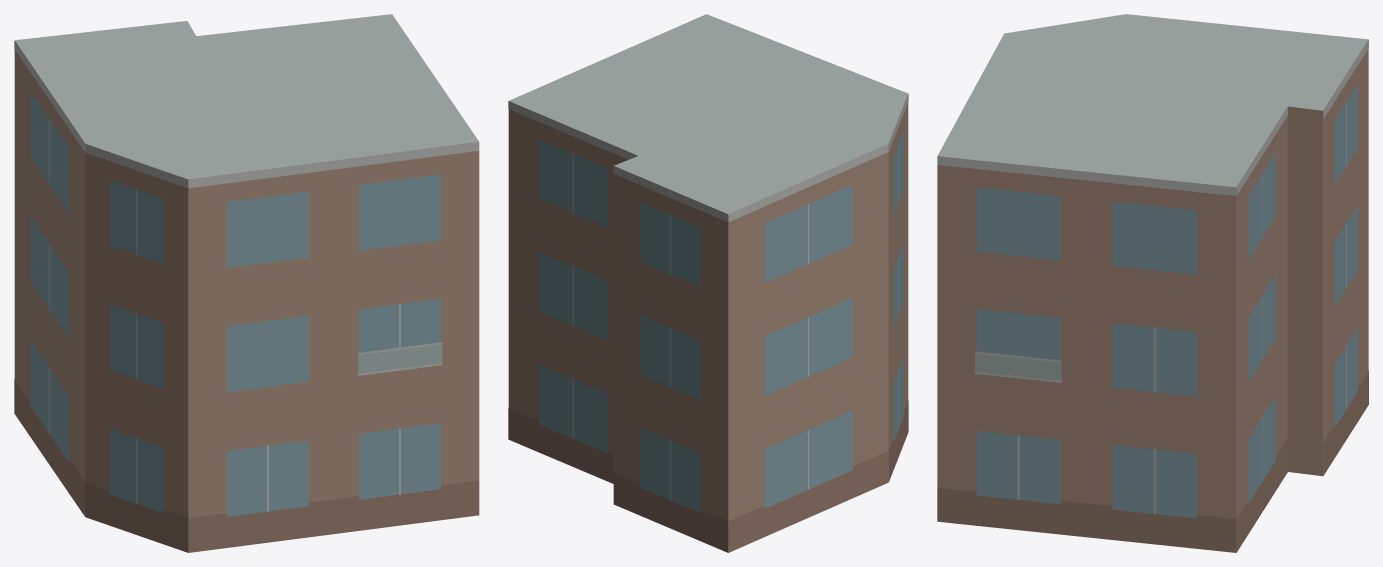
File: survey-upis-32803015.glb
The picture shows the model from 3 angles, left to right: view 1: azimuth 30°, elevation 25°; view 2: azimuth 150°, elevation 25°; view 3: azimuth 270°, elevation 25°; orthographic projection. The views are drawn at different scales.
Parts seen in each view (by area): view 1: survey-upis-32803015.tmp; view 2: survey-upis-32803015.tmp; view 3: survey-upis-32803015.tmp.
Part boxes in pixels (x1,y1,x2,y2): survey-upis-32803015.tmp: [14, 14, 479, 552]; survey-upis-32803015.tmp: [508, 14, 908, 552]; survey-upis-32803015.tmp: [937, 14, 1368, 552].
Size of the model in its own units: 10.39 by 10.2 by 10.92.
